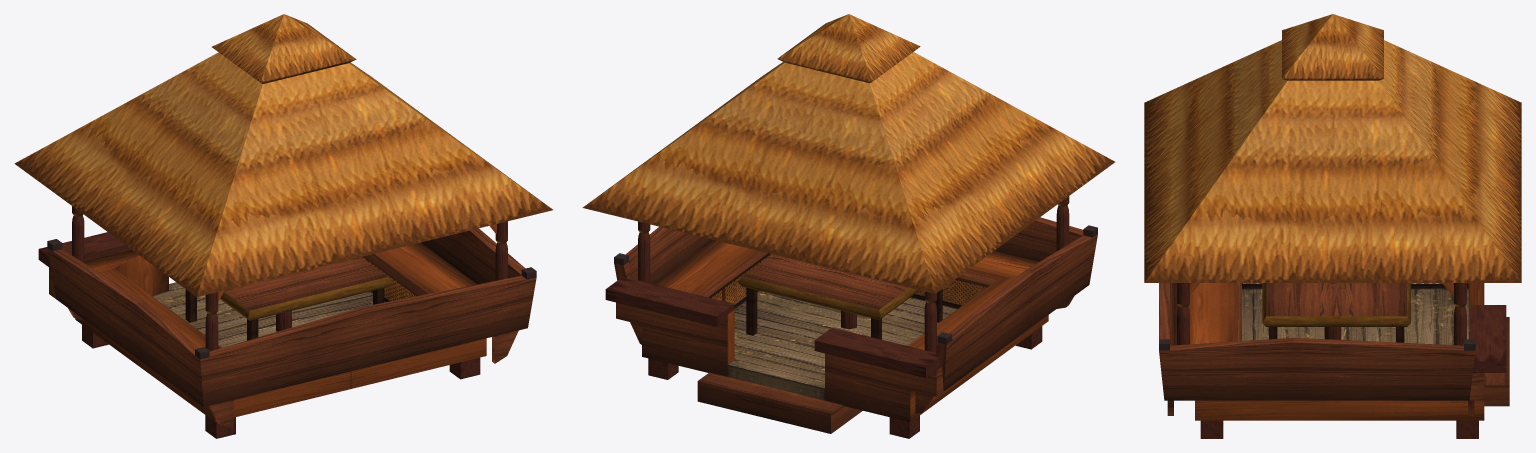
The model's file is ETC0610030.fbx.
The picture shows the model from 3 angles, left to right: view 1: azimuth 30°, elevation 25°; view 2: azimuth 150°, elevation 25°; view 3: azimuth 270°, elevation 25°; orthographic projection. The views are drawn at different scales.
Visible parts, largest first — view 1: smETC0610030; view 2: smETC0610030; view 3: smETC0610030.
Boxes of the visible parts, x1=… form: smETC0610030: x1=14, y1=14, x2=552, y2=438; smETC0610030: x1=582, y1=14, x2=1114, y2=438; smETC0610030: x1=1144, y1=14, x2=1521, y2=438.
Size of the model in its own units: 532 by 493 by 471.
1 material, 1 textured.
